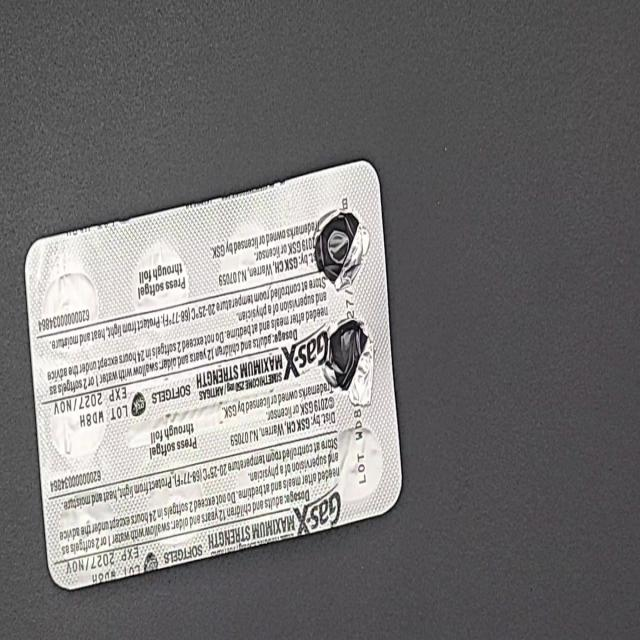defect: (311, 205, 372, 297), (320, 314, 376, 410)
